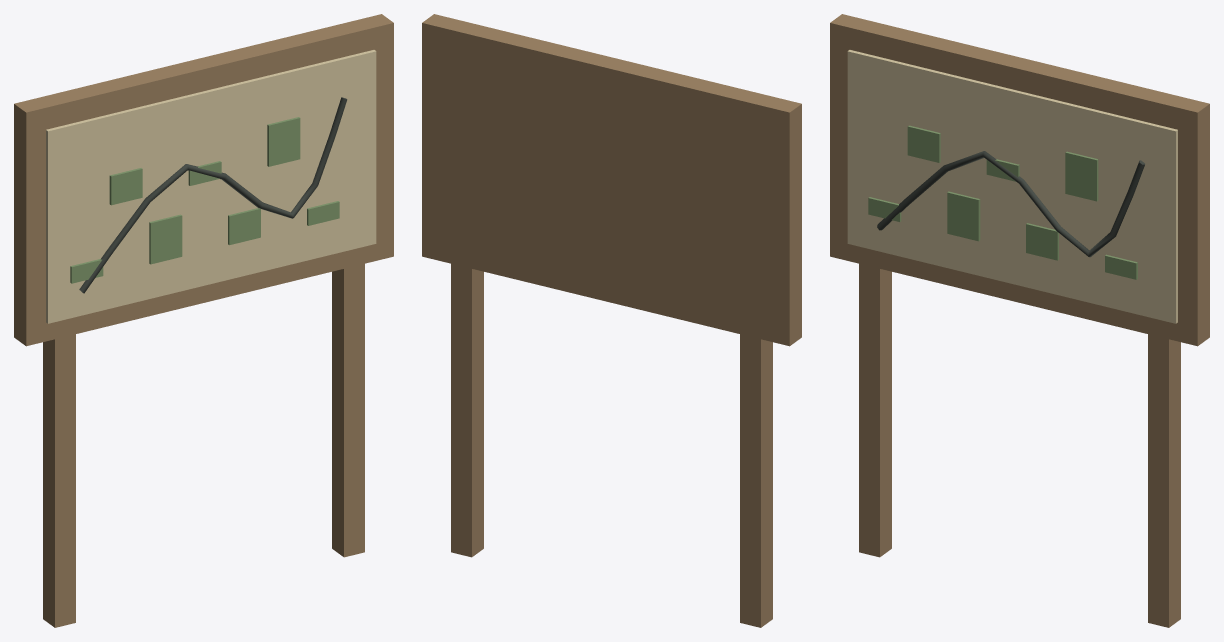
Rendered from zoo-and-safari-park-builder-park-map-board-9bd1a97d__21495.glb.
The picture shows the model from 3 angles, left to right: view 1: azimuth 30°, elevation 25°; view 2: azimuth 150°, elevation 25°; view 3: azimuth 330°, elevation 25°; orthographic projection.
Parts seen in each view (by area): view 1: park-map-board; view 2: park-map-board; view 3: park-map-board.
Part boxes in pixels (x1=…): park-map-board: x1=14, y1=14, x2=393, y2=627; park-map-board: x1=422, y1=14, x2=801, y2=627; park-map-board: x1=830, y1=14, x2=1209, y2=627.
Size of the model in its own units: 1.4 by 1.9 by 0.1094.
